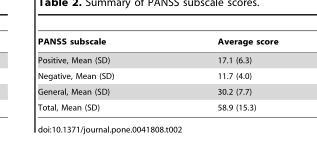table: (37, 36, 277, 111)
table column: (37, 36, 165, 111), (165, 36, 277, 111)
table column header: (37, 36, 277, 50)
table row: (37, 50, 277, 67), (37, 67, 277, 83), (37, 83, 277, 99), (37, 36, 277, 50), (37, 99, 277, 111)
